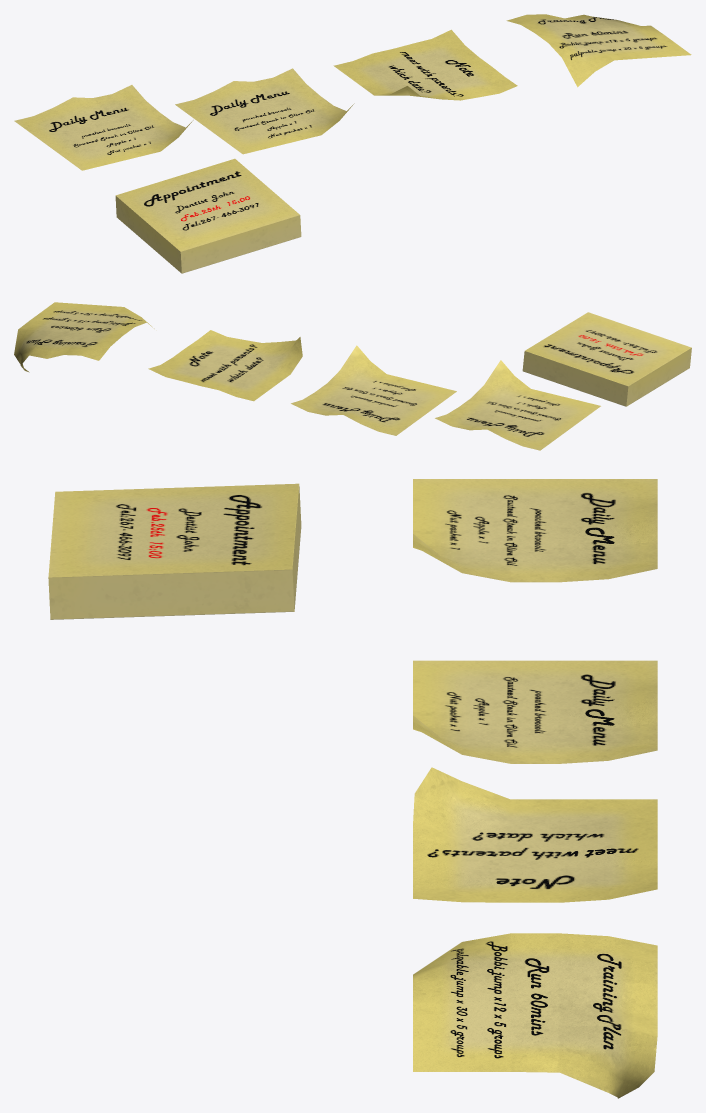
File: memo3.fbx
3 renders of one model, top to bottom at view 1: azimuth 30°, elevation 25°; view 2: azimuth 150°, elevation 25°; view 3: azimuth 270°, elevation 25°, orthographic. The views are drawn at different scales.
Visible parts, largest first — view 1: SM_post_it_notes.001, SM_post_it_notes, SM_post_it_notes.004, SM_post_it_notes.002, SM_post_it_notes.003; view 2: SM_post_it_notes.001, SM_post_it_notes.004, SM_post_it_notes, SM_post_it_notes.002, SM_post_it_notes.003; view 3: SM_post_it_notes.003, SM_post_it_notes.001, SM_post_it_notes.002, SM_post_it_notes, SM_post_it_notes.004.
Boxes of the visible parts, x1,y1,x2,y2 form: SM_post_it_notes.001: (115, 158, 301, 273); SM_post_it_notes: (175, 68, 354, 154); SM_post_it_notes.004: (14, 85, 193, 170); SM_post_it_notes.002: (333, 29, 517, 100); SM_post_it_notes.003: (506, 14, 691, 87); SM_post_it_notes.001: (522, 312, 691, 406); SM_post_it_notes.004: (435, 360, 600, 450); SM_post_it_notes: (291, 345, 456, 435); SM_post_it_notes.002: (148, 330, 302, 401); SM_post_it_notes.003: (14, 302, 154, 372); SM_post_it_notes.003: (413, 933, 657, 1098); SM_post_it_notes.001: (48, 483, 301, 619); SM_post_it_notes.002: (413, 767, 657, 902); SM_post_it_notes: (413, 660, 657, 763); SM_post_it_notes.004: (413, 479, 657, 582).
Size of the model in its own units: 39.33 by 5.34 by 18.94.
1 material, 1 textured.
